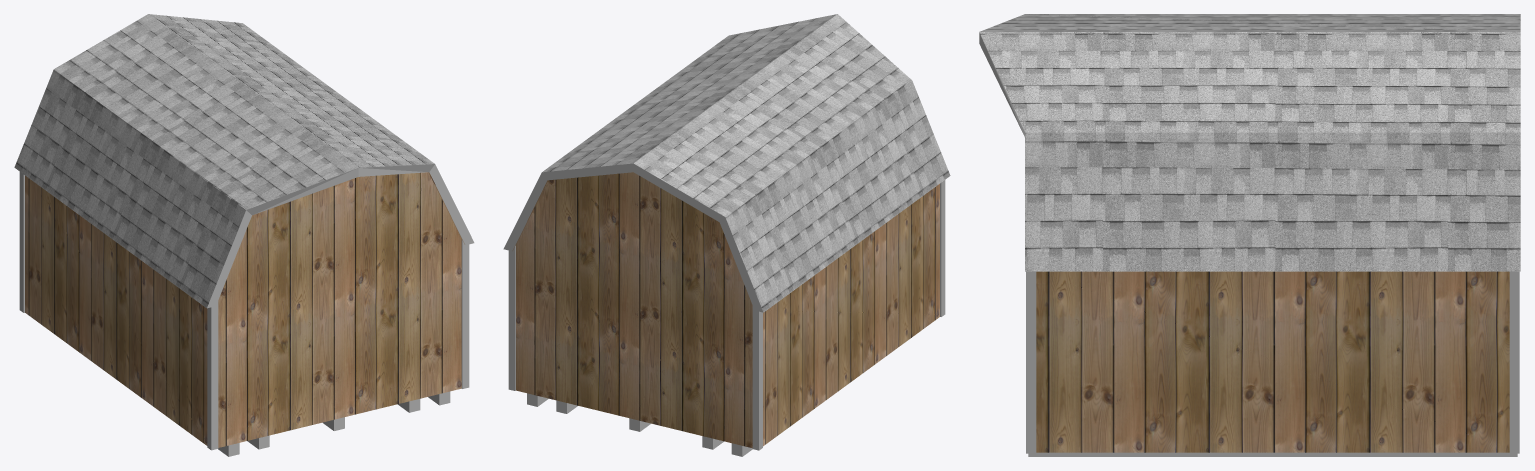
Rendered from Mini Barn Sheds_8x10.obj.
The picture shows the model from 3 angles, left to right: view 1: azimuth 30°, elevation 25°; view 2: azimuth 150°, elevation 25°; view 3: azimuth 270°, elevation 25°; orthographic projection. The views are drawn at different scales.
Visible parts, largest first — view 1: Shed, Roof, Trim, Sides, Floor; view 2: Shed, Roof, Trim, Sides, Floor; view 3: Roof, Shed, Trim, Floor.
Part boxes in pixels (box(x1,y1,x2,y2)): Shed: box(25, 172, 464, 447); Roof: box(14, 14, 434, 308); Trim: box(19, 172, 469, 450); Sides: box(207, 164, 474, 308); Floor: box(218, 391, 450, 456); Shed: box(512, 172, 939, 448); Roof: box(542, 14, 950, 312); Trim: box(508, 180, 945, 450); Sides: box(503, 163, 763, 312); Floor: box(527, 393, 752, 456); Roof: box(979, 14, 1520, 271); Shed: box(1036, 271, 1509, 452); Trim: box(1026, 271, 1519, 453); Floor: box(1028, 452, 1517, 456).
Bounding box in the file's own units: 2.48 × 2.44 × 3.37.
